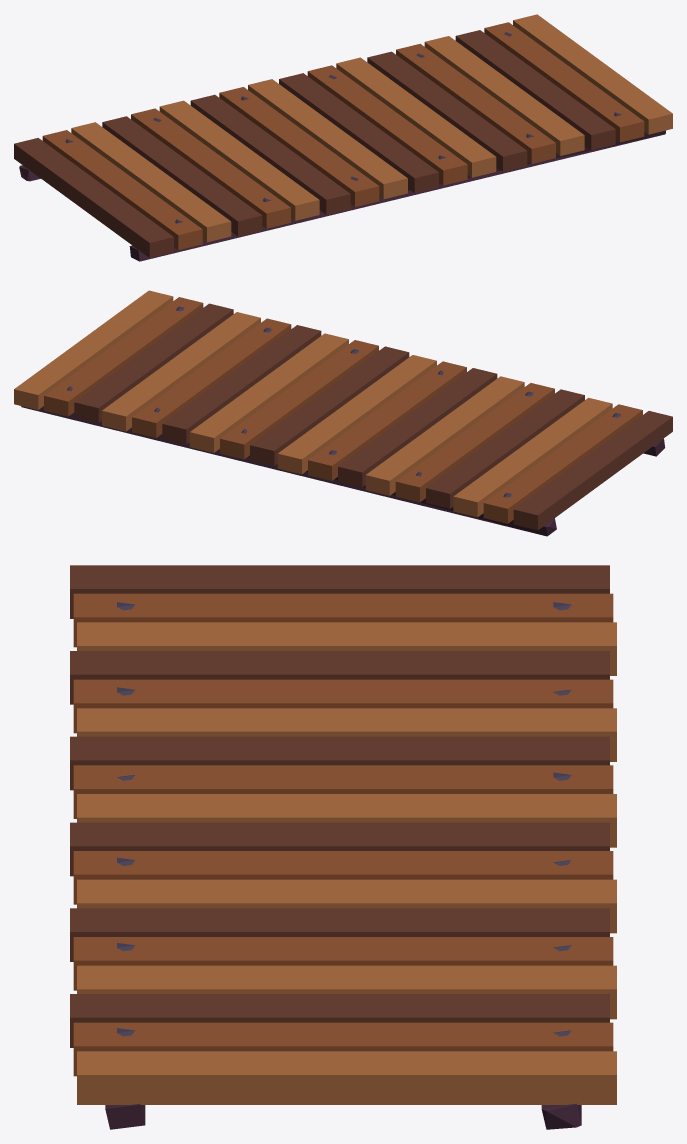
The model's file is grove_bridge-lod1.glb.
3 renders of one model, top to bottom at view 1: azimuth 30°, elevation 25°; view 2: azimuth 150°, elevation 25°; view 3: azimuth 270°, elevation 25°, orthographic. The views are drawn at different scales.
Parts seen in each view (by area): view 1: grove_bridge; view 2: grove_bridge; view 3: grove_bridge.
Part boxes in pixels (bbox=[...]): grove_bridge: bbox=[14, 14, 672, 261]; grove_bridge: bbox=[14, 290, 672, 536]; grove_bridge: bbox=[70, 565, 616, 1129].
Size of the model in its own units: 8.84 by 0.45 by 3.96.
